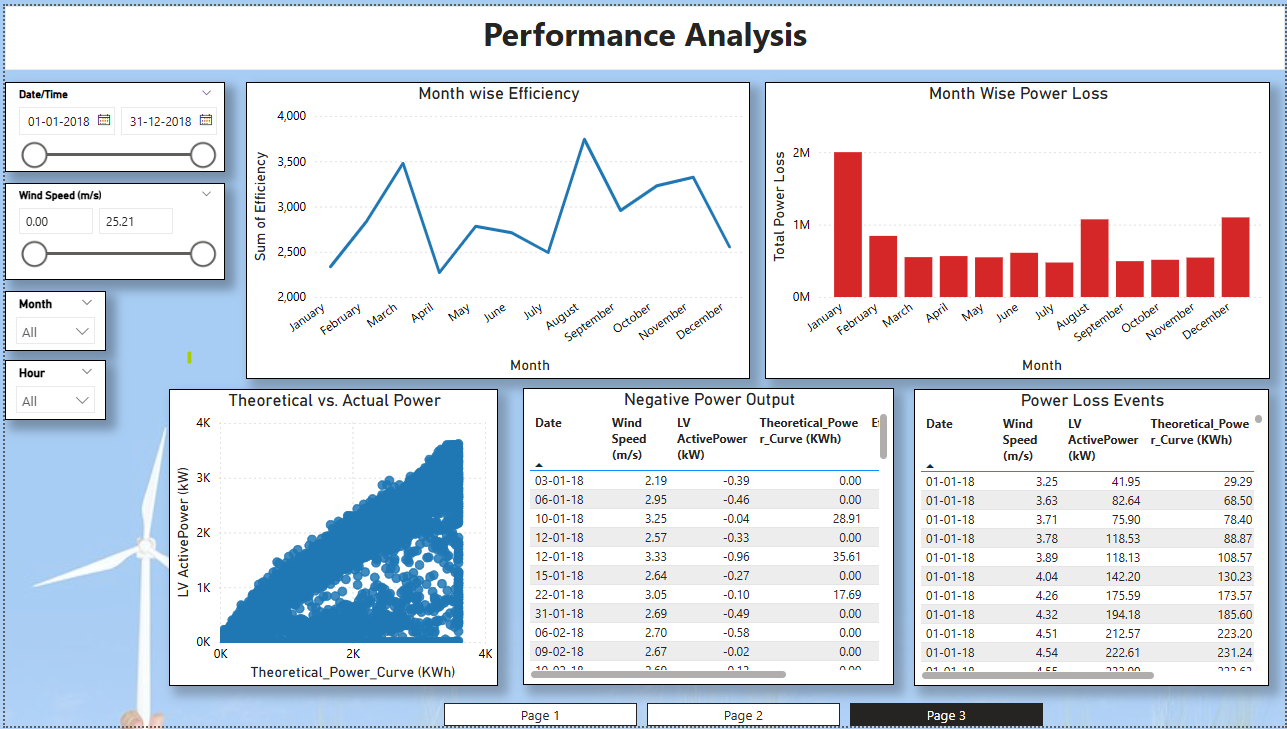

What the dashboard file says about the page in this screenshot:
{"tool":"powerbi","page":{"name":"Page 3","canvas":[1280,720],"ordinal":2},"visuals":[{"type":"textbox","box":[0,0,1280,64],"z":0},{"type":"lineChart","title":"Month wise Efficiency","fields":{"Category":["DateTable.Month"],"Y":["Sum(Processed_Data.Efficiency)"]},"box":[240.9,76.4,503.6,296.4],"z":1000},{"type":"clusteredColumnChart","title":"Month Wise Power Loss","fields":{"Category":["DateTable.Month"],"Y":["Processed_Data.Total Power Loss"]},"box":[760,76.4,504.5,296.4],"z":2000},{"type":"scatterChart","title":"Theoretical vs. Actual Power ","fields":{"X":["Processed_Data.Theoretical_Power_Curve (KWh)"],"Y":["Processed_Data.LV ActivePower (kW)"]},"box":[164.4,383.2,328.8,296.7],"z":3000},{"type":"tableEx","title":"Power Loss Events","fields":{"Values":["Processed_Data.Date","Processed_Data.Wind Speed (m/s)","Processed_Data.LV ActivePower (kW)","Processed_Data.Theoretical_Power_Curve (KWh)","Processed_Data.Efficiency","Processed_Data.Power Loss"]},"box":[909,383.3,355.5,296.4],"z":4000},{"type":"slicer","fields":{"Values":["Processed_Data.Date/Time"]},"box":[0,76.4,220,90],"z":5000},{"type":"slicer","fields":{"Values":["Processed_Data.Wind Speed (m/s)"]},"box":[0,177.3,220,96.4],"z":6000},{"type":"slicer","fields":{"Values":["DateTable.Month"]},"box":[0,285.5,100.9,60],"z":7000},{"type":"slicer","fields":{"Values":["Processed_Data.Hour"]},"box":[0,353.6,100.9,60],"z":8000},{"type":"pageNavigator","box":[439.1,697.3,600,22.7],"z":9000},{"type":"tableEx","title":"Negative Power Output","fields":{"Values":["Processed_Data.Date","Processed_Data.Wind Speed (m/s)","Processed_Data.LV ActivePower (kW)","Processed_Data.Theoretical_Power_Curve (KWh)","Processed_Data.Efficiency","Processed_Data.Power Loss"]},"box":[518.4,382.2,370.6,296.7],"z":9001}]}

Visuals, with their boxes on the page's 1280x720 design canvas (x1, y1, x2, y2). These are canvas units, not pixel positions in the 1287x729 screenshot, which may show the page scaled, cropped or inside an application window:
textbox: (0,0,1280,64)
"Month wise Efficiency" lineChart: (241,76,744,373)
"Month Wise Power Loss" clusteredColumnChart: (760,76,1264,373)
"Theoretical vs. Actual Power " scatterChart: (164,383,493,680)
"Power Loss Events" tableEx: (909,383,1264,680)
slicer - Processed_Data.Date/Time: (0,76,220,166)
slicer - Processed_Data.Wind Speed (m/s): (0,177,220,274)
slicer - DateTable.Month: (0,286,101,346)
slicer - Processed_Data.Hour: (0,354,101,414)
pageNavigator: (439,697,1039,720)
"Negative Power Output" tableEx: (518,382,889,679)
